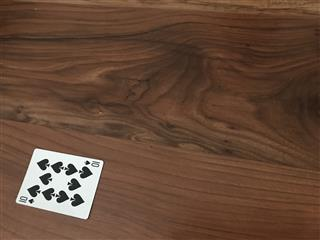TenOfSpades: (14, 146, 104, 220)
